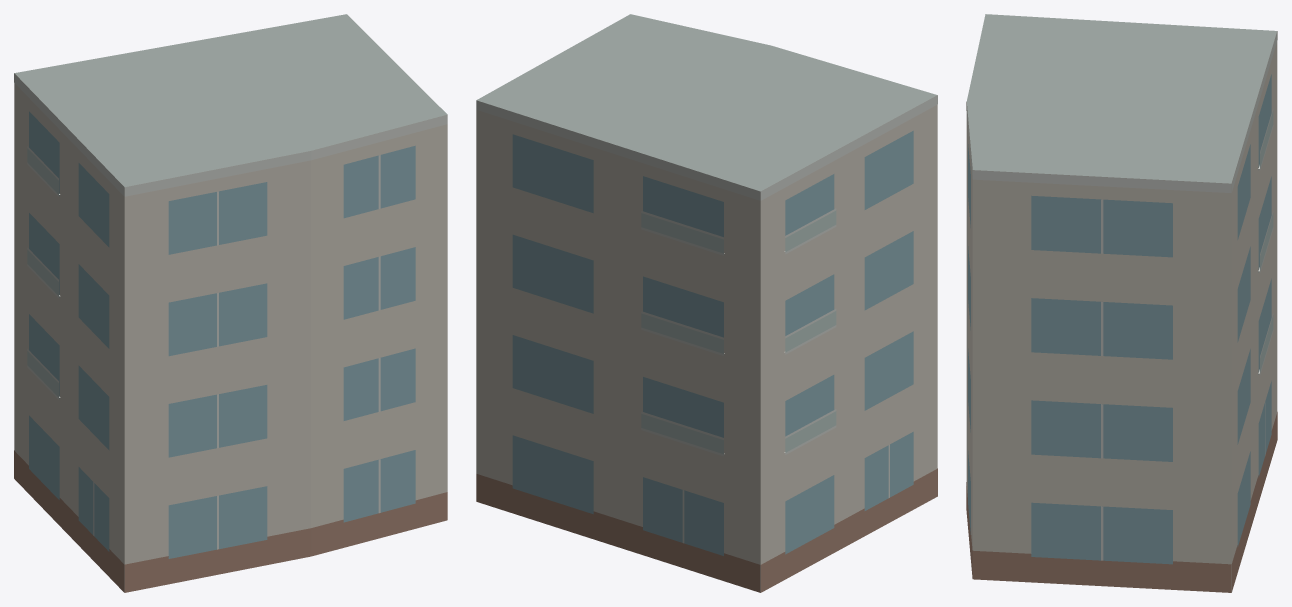
The model's file is survey-upis-32464976.glb.
3 views of the same model, side by side, from view 1: azimuth 30°, elevation 25°; view 2: azimuth 150°, elevation 25°; view 3: azimuth 270°, elevation 25° (orthographic).
Visible parts, largest first — view 1: survey-upis-32464976.tmp; view 2: survey-upis-32464976.tmp; view 3: survey-upis-32464976.tmp.
Part boxes in pixels (box(x1,y1,x2,y2)): survey-upis-32464976.tmp: box(14, 14, 447, 592); survey-upis-32464976.tmp: box(476, 14, 937, 592); survey-upis-32464976.tmp: box(966, 14, 1277, 592).
Size of the model in its own units: 9.25 by 10.4 by 7.16.
